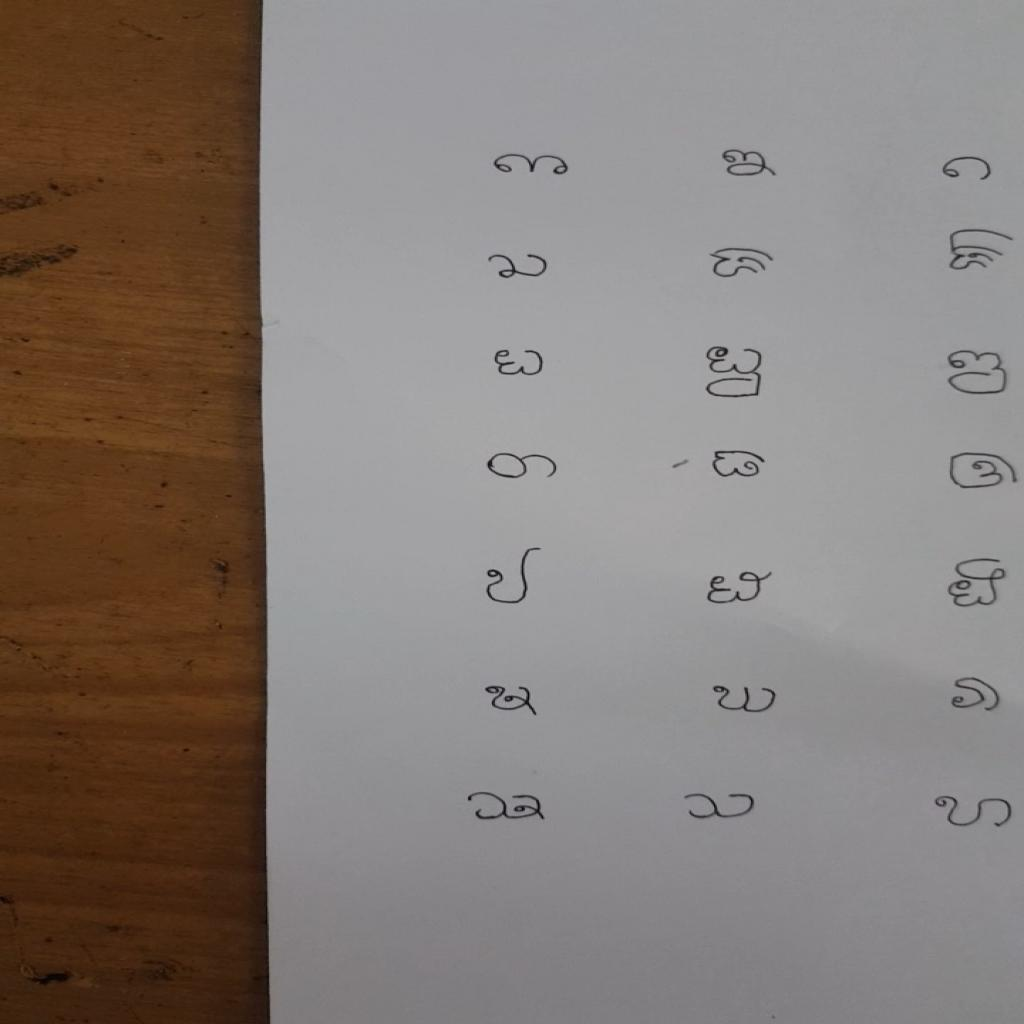LN001: (483, 150, 580, 182)
LN002: (715, 147, 786, 182)
LN003: (936, 155, 1000, 185)
LN007: (479, 251, 556, 285)
LN008: (705, 244, 781, 283)
LN009: (943, 226, 1021, 275)
LN013: (490, 347, 550, 380)
LN014: (702, 345, 770, 402)
LN015: (941, 347, 1015, 399)
LN019: (482, 450, 564, 484)
LN020: (706, 448, 774, 483)
LN021: (944, 450, 1024, 494)
LN025: (482, 545, 547, 609)
LN026: (703, 568, 780, 608)
LN027: (943, 557, 1012, 613)
LN031: (482, 683, 544, 720)
LN032: (707, 682, 784, 718)
LN033: (947, 675, 1007, 716)
LN037: (460, 788, 556, 827)
LN038: (679, 791, 762, 824)
LN039: (927, 793, 1021, 832)
